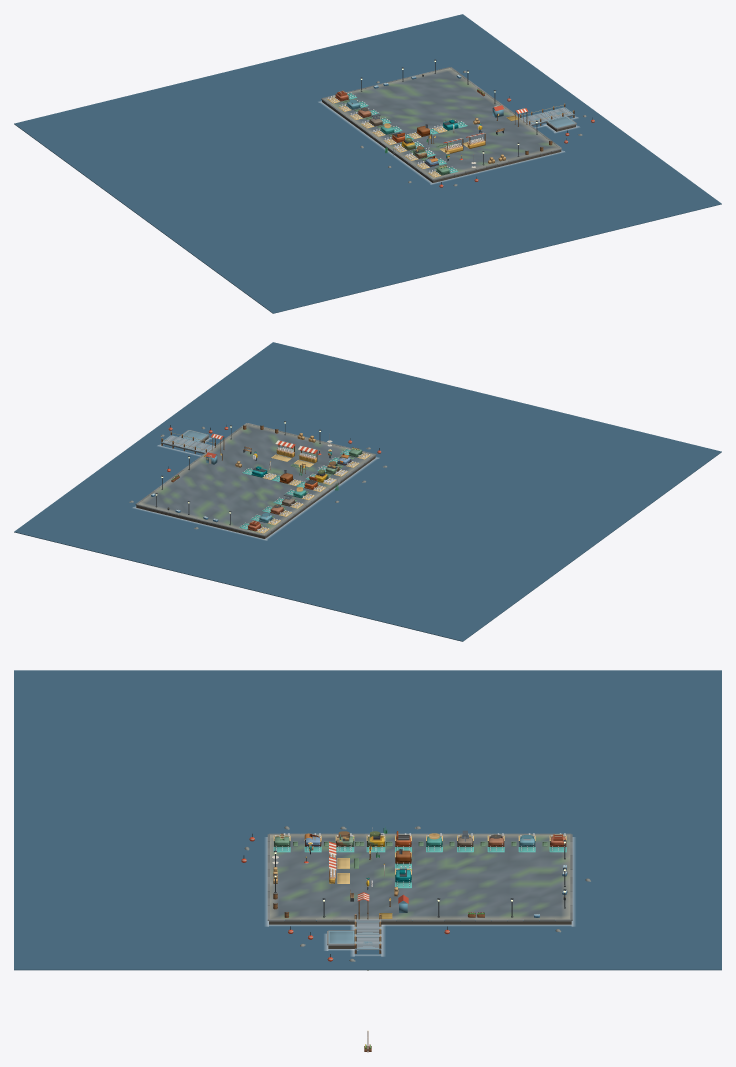
The model's file is mist_cove_blockout.glb.
3 views of the same model, one above another, from view 1: azimuth 30°, elevation 25°; view 2: azimuth 150°, elevation 25°; view 3: azimuth 270°, elevation 25° (orthographic). The views are drawn at different scales.
Visible parts, largest first — view 1: Water, Ground_mist_land, Foam, Ground_mist_pier; view 2: Water, Ground_mist_land, Ground_mist_pier, Foam; view 3: Water, Ground_mist_land, Foam, Ground_mist_pier.
Boxes of the visible parts, bbox=[...] form: Water: bbox=[14, 14, 721, 313]; Ground_mist_land: bbox=[321, 67, 561, 182]; Foam: bbox=[318, 101, 579, 184]; Ground_mist_pier: bbox=[520, 103, 574, 125]; Water: bbox=[14, 342, 721, 641]; Ground_mist_land: bbox=[135, 423, 376, 538]; Ground_mist_pier: bbox=[161, 431, 215, 453]; Foam: bbox=[133, 437, 378, 540]; Water: bbox=[14, 670, 721, 970]; Ground_mist_land: bbox=[267, 833, 572, 924]; Foam: bbox=[265, 837, 574, 956]; Ground_mist_pier: bbox=[354, 914, 381, 953].
Size of the model in its own units: 80 by 22.55 by 80.
